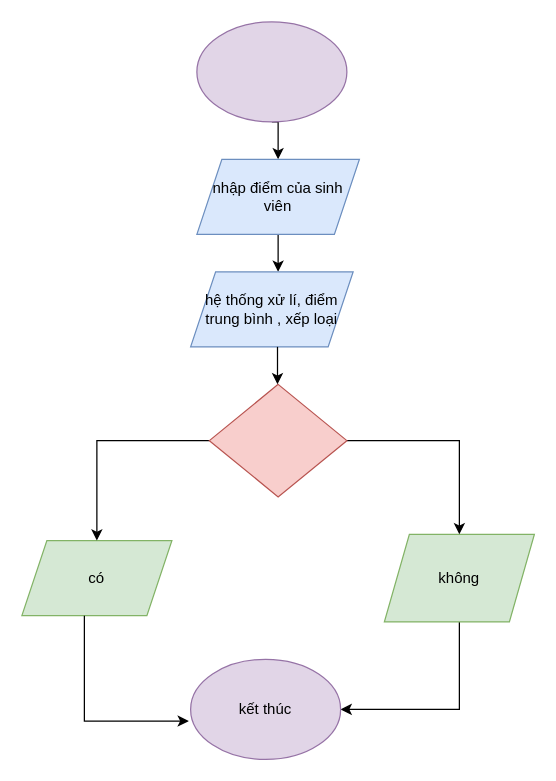
Image size: 556x781. Some labels were removed from this diagram. The box of each missing label's shape, as (x1, y1, x2, y2) in pixels:
bat dau: (196, 21, 347, 122)
điểm hợp lệ ?: (208, 383, 347, 497)
